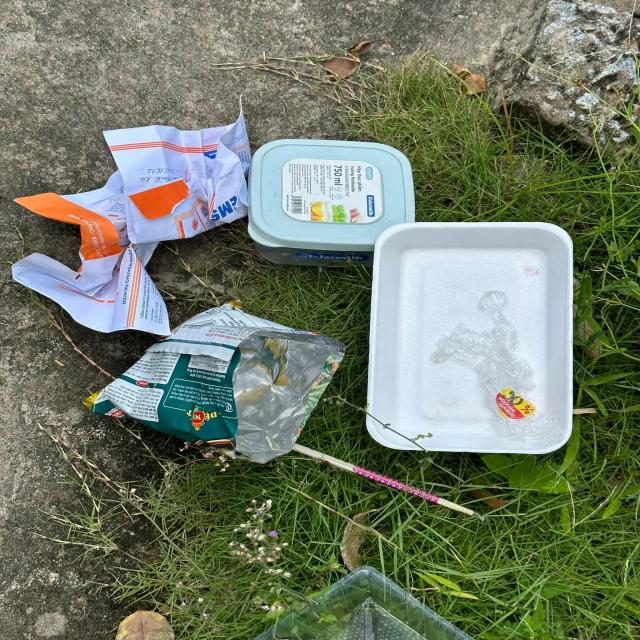foam box: (366, 222, 574, 456)
lid: (247, 138, 417, 254)
paper: (12, 95, 252, 336)
plastic holder: (248, 563, 475, 640)
snack package: (81, 298, 347, 464)
